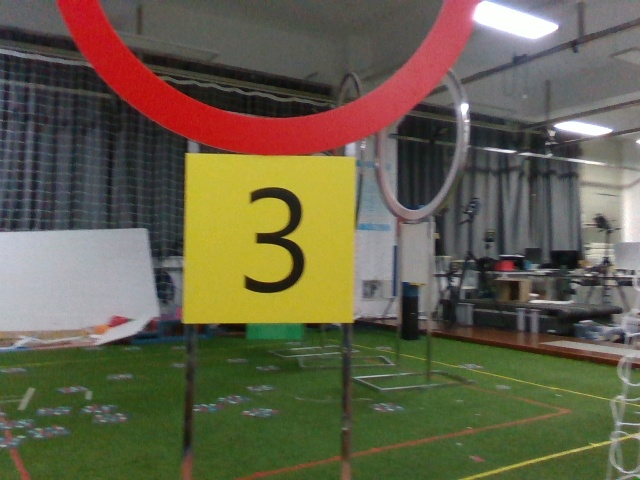target: (179, 160, 343, 317)
